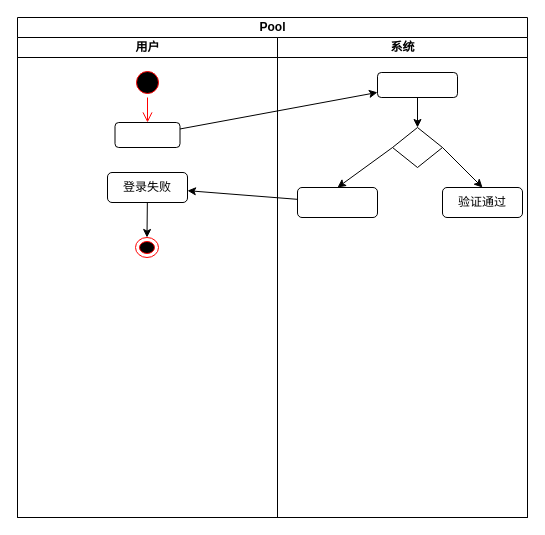
The diagram is 545 pixels wide and 535 high, and some of its shapes have lost their labels. The shapes that lost their labels are listed below. From the top down, each one's centre as x and y in pixels, then its label:
At (x=417, y=85): "验证登录信息".
At (x=147, y=135): "用户登录".
At (x=337, y=202): "验证未通过".
